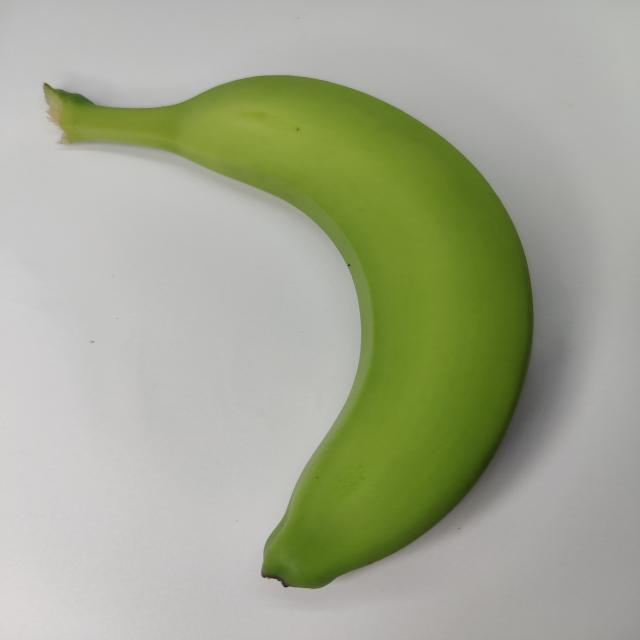raw: (36, 55, 557, 585)
